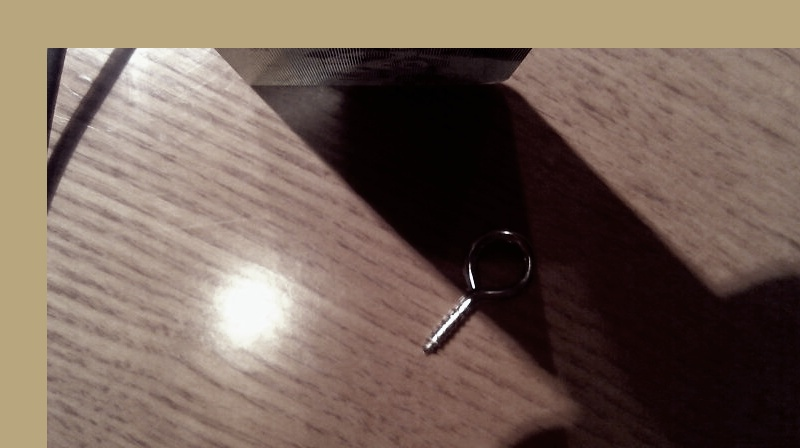O001: (419, 226, 536, 356)
